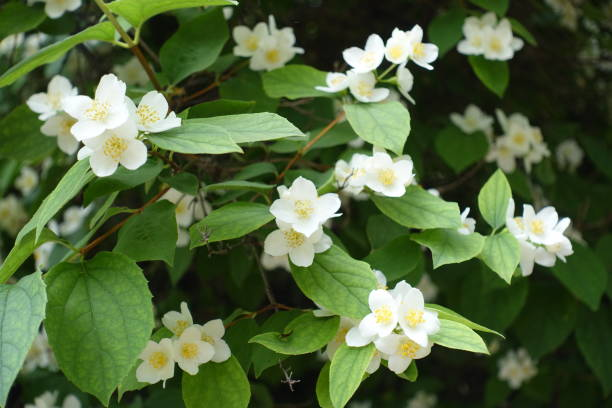flower: (56, 69, 133, 142), (110, 89, 197, 152), (67, 117, 153, 178), (265, 173, 345, 233), (357, 143, 422, 202), (259, 224, 342, 265), (163, 325, 222, 380), (26, 73, 80, 126), (129, 332, 182, 385), (374, 332, 434, 377), (397, 286, 438, 351), (356, 280, 400, 340), (191, 316, 237, 366), (520, 201, 564, 252), (336, 34, 388, 76), (337, 72, 396, 107), (401, 27, 440, 75), (247, 36, 294, 72), (451, 101, 496, 136), (157, 297, 198, 335), (227, 25, 274, 58), (389, 67, 424, 107), (383, 24, 414, 68), (479, 29, 519, 60), (455, 21, 492, 53), (559, 135, 589, 170), (317, 69, 349, 99)
